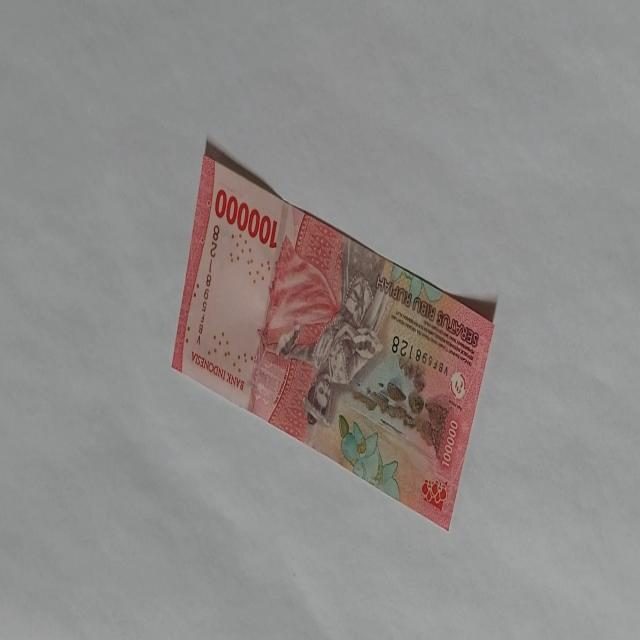seratus ribu rupiah: (171, 144, 496, 532)
